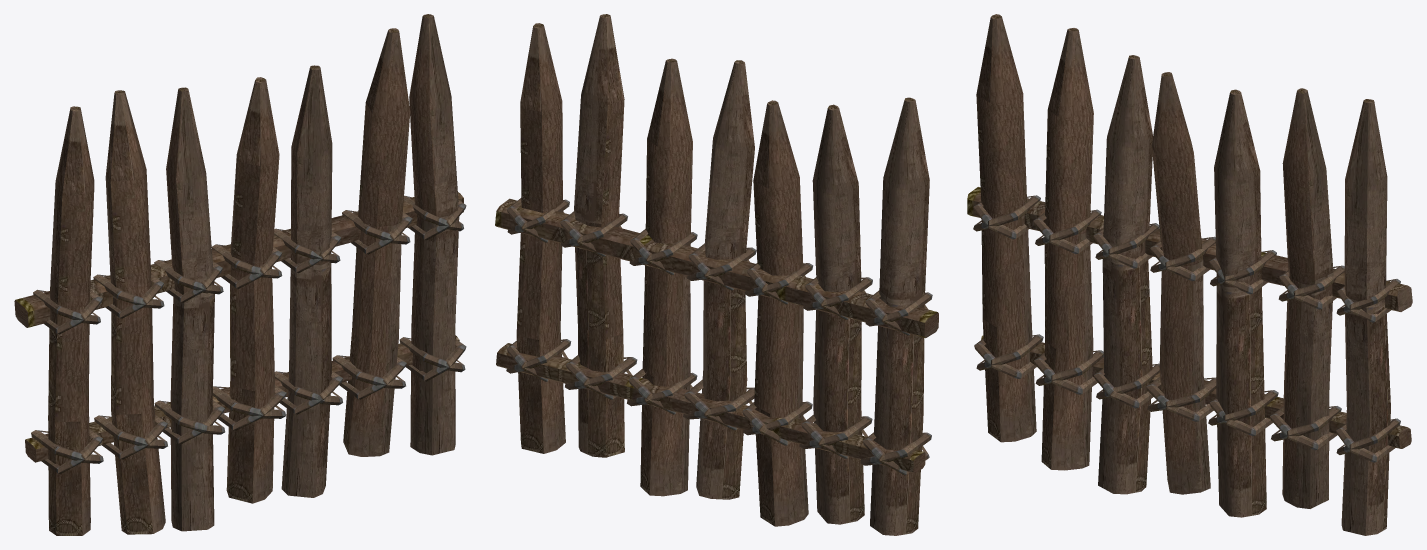
Rendered from Custom_Model_c83b1f-transformed.glb.
3 views of the same model, side by side, from view 1: azimuth 30°, elevation 25°; view 2: azimuth 150°, elevation 25°; view 3: azimuth 330°, elevation 25° (orthographic).
Parts seen in each view (by area): view 1: Mesh_0263; view 2: Mesh_0263; view 3: Mesh_0263.
Boxes of the visible parts, left/top/right/bottom form: Mesh_0263: left=14, top=14, right=466, bottom=535; Mesh_0263: left=495, top=14, right=938, bottom=535; Mesh_0263: left=967, top=14, right=1412, bottom=535.
Size of the model in its own units: 2.1 by 2.09 by 0.3311.
Materials: 1 (1 with a texture image).
